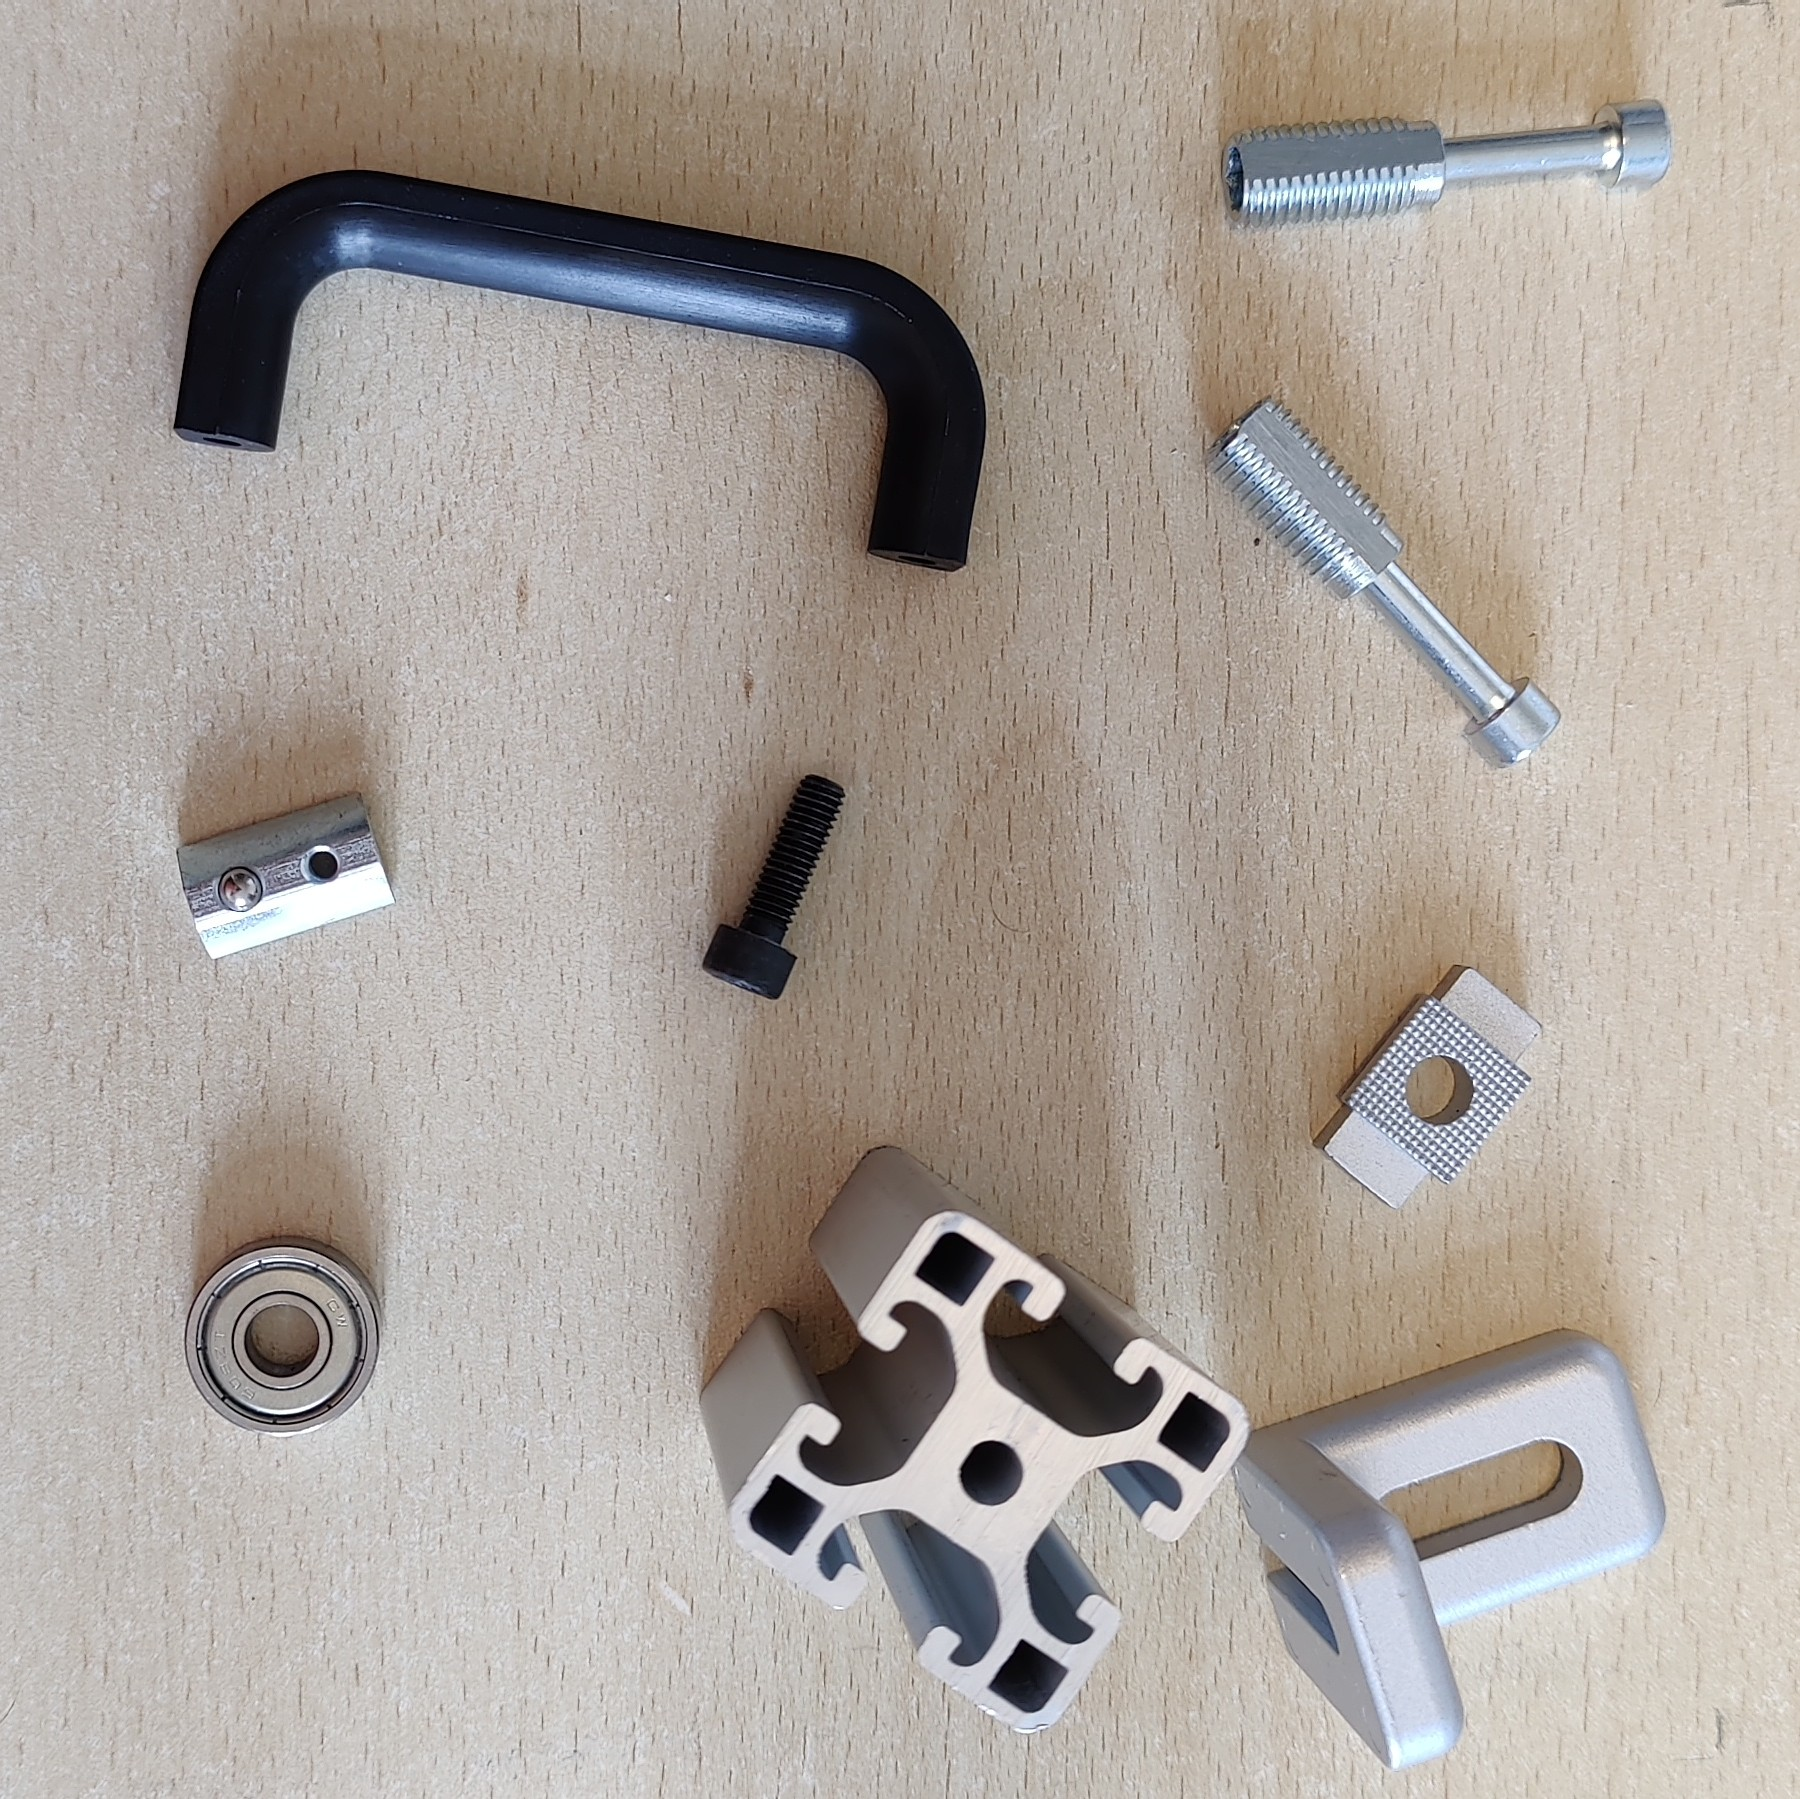Aluminium Extension: (697, 1142, 1250, 1736)
Ball Bearing: (183, 1234, 385, 1438)
Multiwinkel: (1232, 1321, 1668, 1771)
Pull Handle: (170, 166, 990, 573)
Shoulder Socket Head Cap Screw: (1197, 395, 1563, 773), (1219, 96, 1676, 236)
Socket Head Cap Screw: (700, 768, 848, 1000)
T Nut Square: (1313, 957, 1546, 1214)
T Spring Nut: (173, 787, 397, 964)
